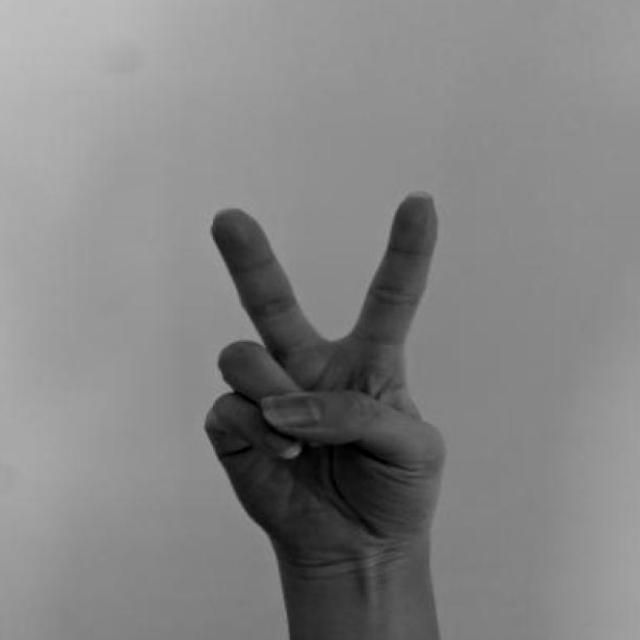V: (202, 184, 456, 640)
